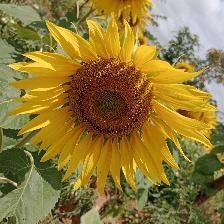sunflower: (18, 24, 205, 188)
